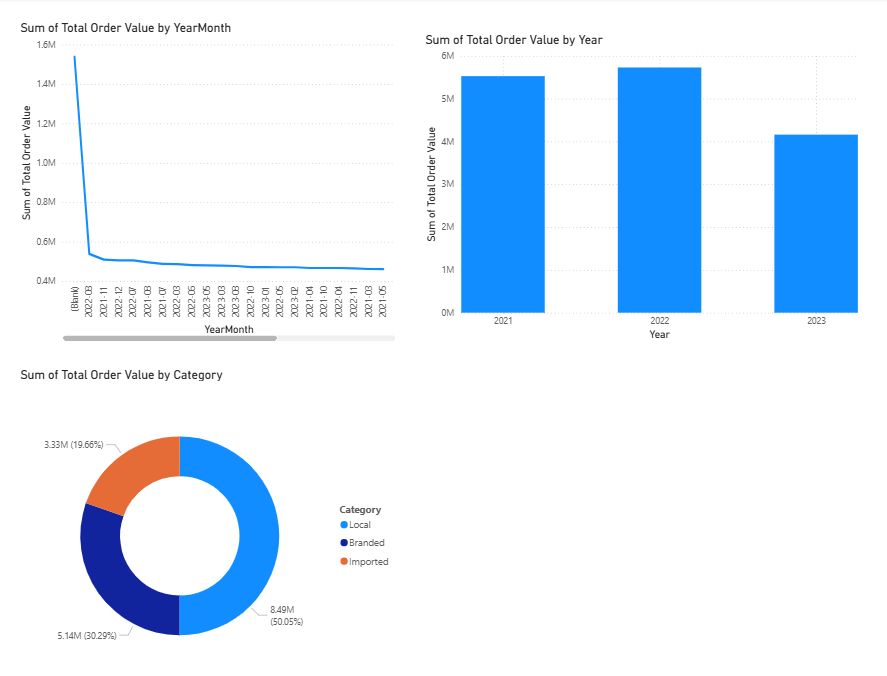

The page's visual inventory and layout, read from the dashboard file:
{"tool":"powerbi","page":{"name":"SALES & REVENUE TRENDS","canvas":[1280,1000],"ordinal":0},"visuals":[{"type":"lineChart","fields":{"Category":["Dim_Date.YearMonth"],"Y":["Sum(Fact_Orders.Total Order Value)"]},"box":[32,32,528,448],"z":0},{"type":"clusteredColumnChart","fields":{"Category":["Dim_Date.Year"],"Y":["Sum(Fact_Orders.Total Order Value)"]},"box":[592,48,608,432],"z":1},{"type":"donutChart","fields":{"Category":["Dim_Product.Category"],"Y":["Sum(Fact_Orders.Total Order Value)"]},"box":[32,512,528,448],"z":2}]}

Visuals, with their boxes in screenshot pixels (x1, y1, x2, y2), scaled from the page's 1280x1000 canvas onto the 887x676 screenshot:
lineChart - Dim_Date.YearMonth x Sum(Fact_Orders.Total Order Value): <bbox>22, 22, 388, 324</bbox>
clusteredColumnChart - Dim_Date.Year x Sum(Fact_Orders.Total Order Value): <bbox>410, 32, 832, 324</bbox>
donutChart - Dim_Product.Category x Sum(Fact_Orders.Total Order Value): <bbox>22, 346, 388, 649</bbox>
